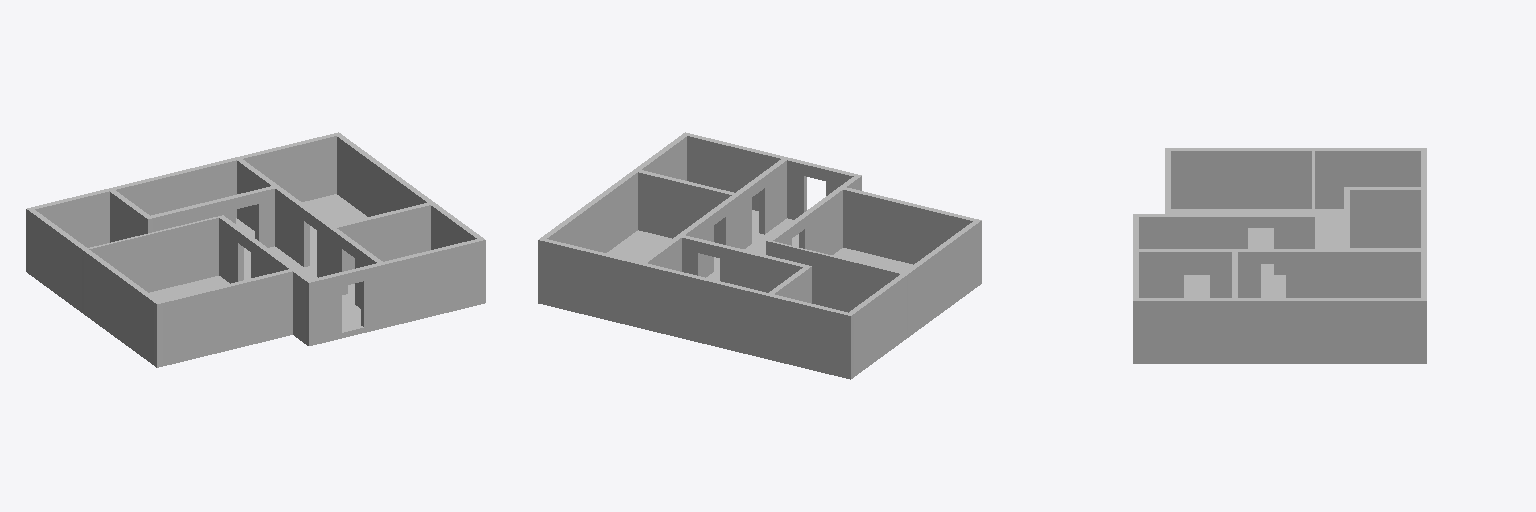
Rendered from Home.obj.
3 renders of one model, left to right at view 1: azimuth 30°, elevation 25°; view 2: azimuth 150°, elevation 25°; view 3: azimuth 270°, elevation 25°, orthographic.
Visible parts, largest first — view 1: Plane; view 2: Plane; view 3: Plane.
Boxes of the visible parts, box(x1,y1,x2,y2) form: Plane: box(26, 132, 485, 367); Plane: box(538, 132, 981, 379); Plane: box(1133, 148, 1426, 363).
Bounding box in the file's own units: 28.25 × 5.48 × 23.